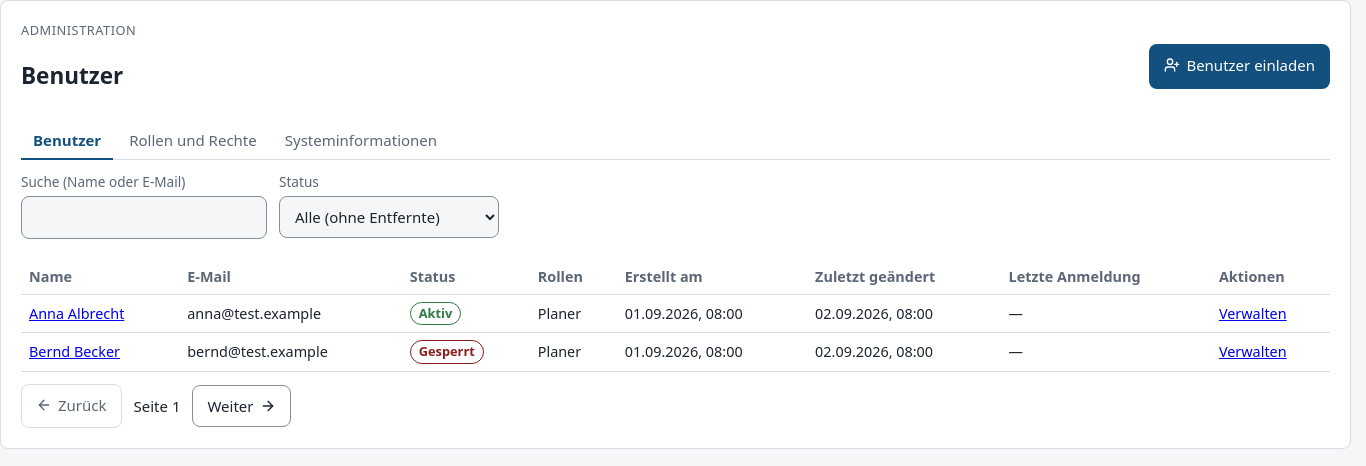
it: Benutzerliste › blättert vor und zurück - mit dem Cursor des Servers
Expected: the link "Anna Albrecht" is shown, [29,304,124,323]
Expected: the text "Seite 1" is shown, [134,395,180,417]
Click the button "Weiter".
click(242, 406)  # box [192,385,291,427]
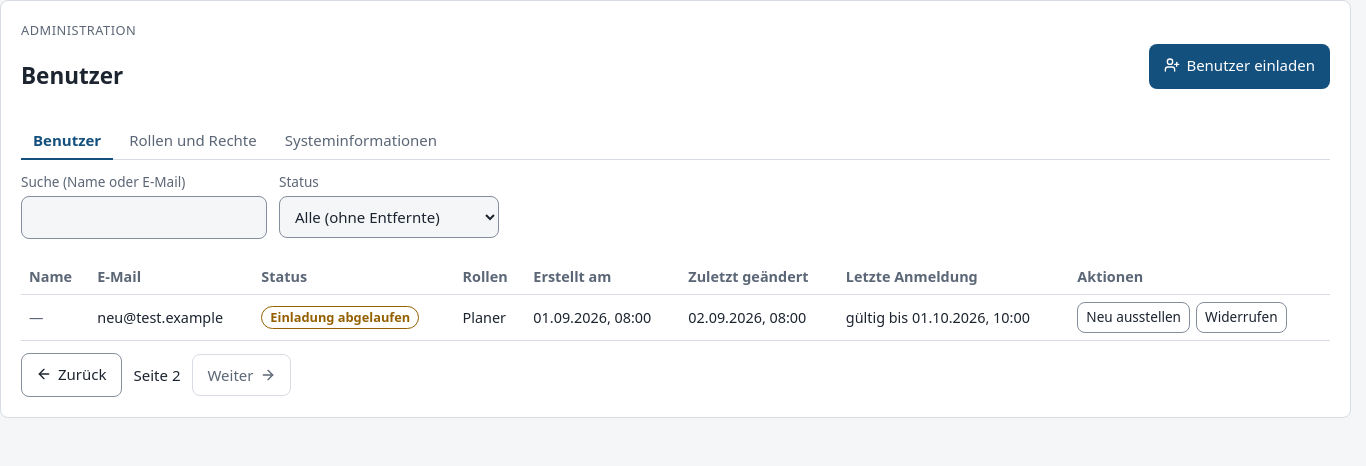
Result: the text "neu@test.example" is shown at [89,295,253,340]
Result: the text "Seite 2" is shown at [134,364,180,386]
Result: the text "Einladung abgelaufen" is shown at [261,306,419,329]
Click the button "Zurück".
click(71, 375)  # box [21,353,122,398]
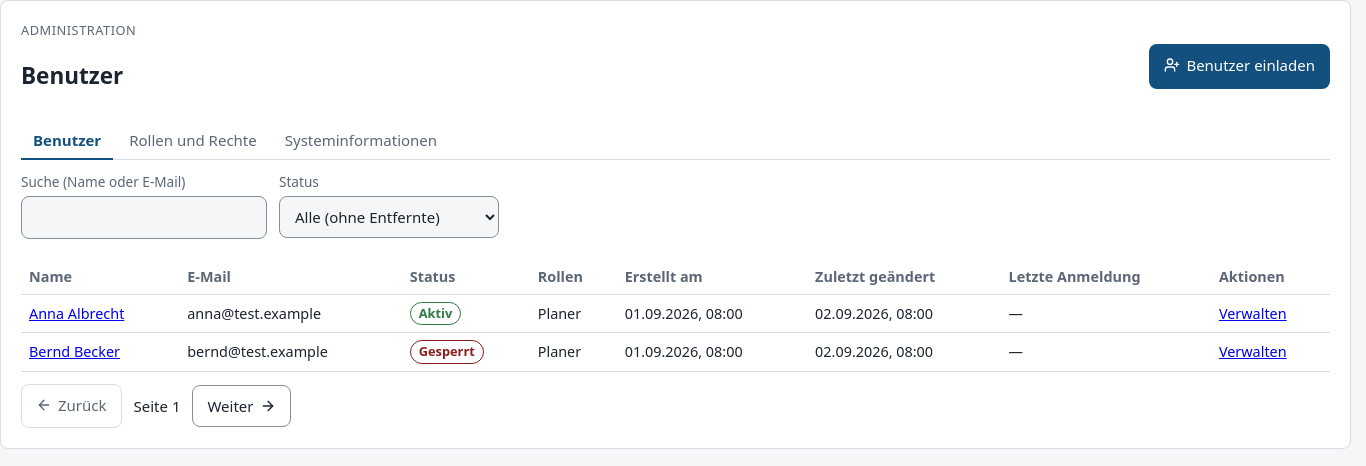
Result: the link "Anna Albrecht" is shown at [29,304,124,323]
Result: the text "Seite 1" is shown at [134,395,180,417]
